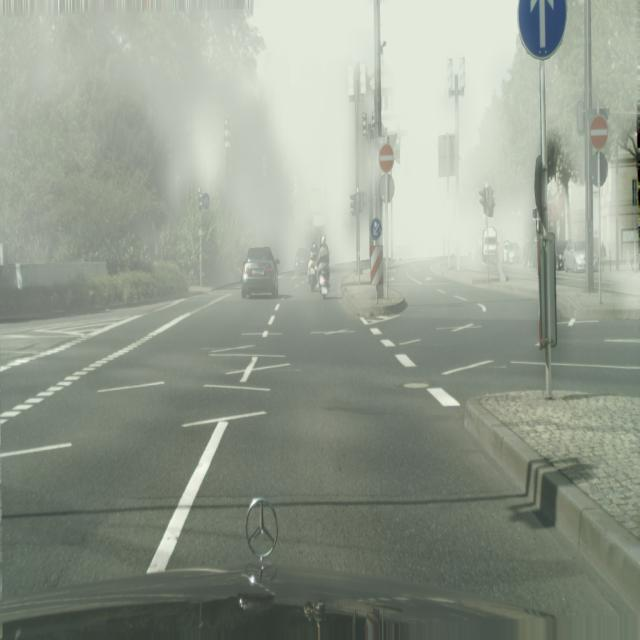bus: (309, 235, 331, 294), (316, 233, 330, 298)
truck: (241, 247, 279, 299), (563, 240, 586, 272), (482, 227, 498, 263), (295, 249, 311, 274), (503, 240, 517, 264)
